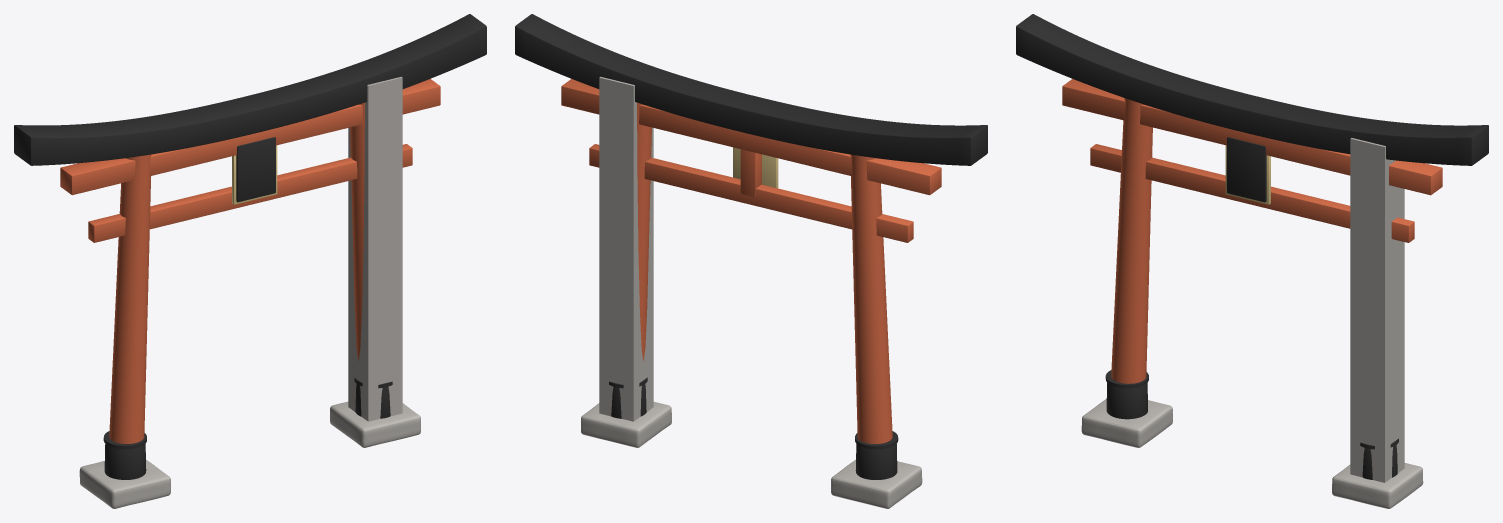
Rendered from torii.glb.
3 views of the same model, side by side, from view 1: azimuth 30°, elevation 25°; view 2: azimuth 150°, elevation 25°; view 3: azimuth 330°, elevation 25° (orthographic).
Visible parts, largest first — view 1: torii, p-colonly.001; view 2: torii, p-colonly.001; view 3: torii, p-colonly.001.
Boxes of the visible parts, x1=… form: torii: x1=14, y1=14, x2=486, y2=508; p-colonly.001: x1=348, y1=76, x2=402, y2=421; torii: x1=515, y1=14, x2=987, y2=508; p-colonly.001: x1=599, y1=76, x2=653, y2=421; torii: x1=1016, y1=14, x2=1488, y2=508; p-colonly.001: x1=1350, y1=138, x2=1404, y2=482.
Size of what is drawn, in the model's own units: 7.3 by 5.89 by 0.9542.
